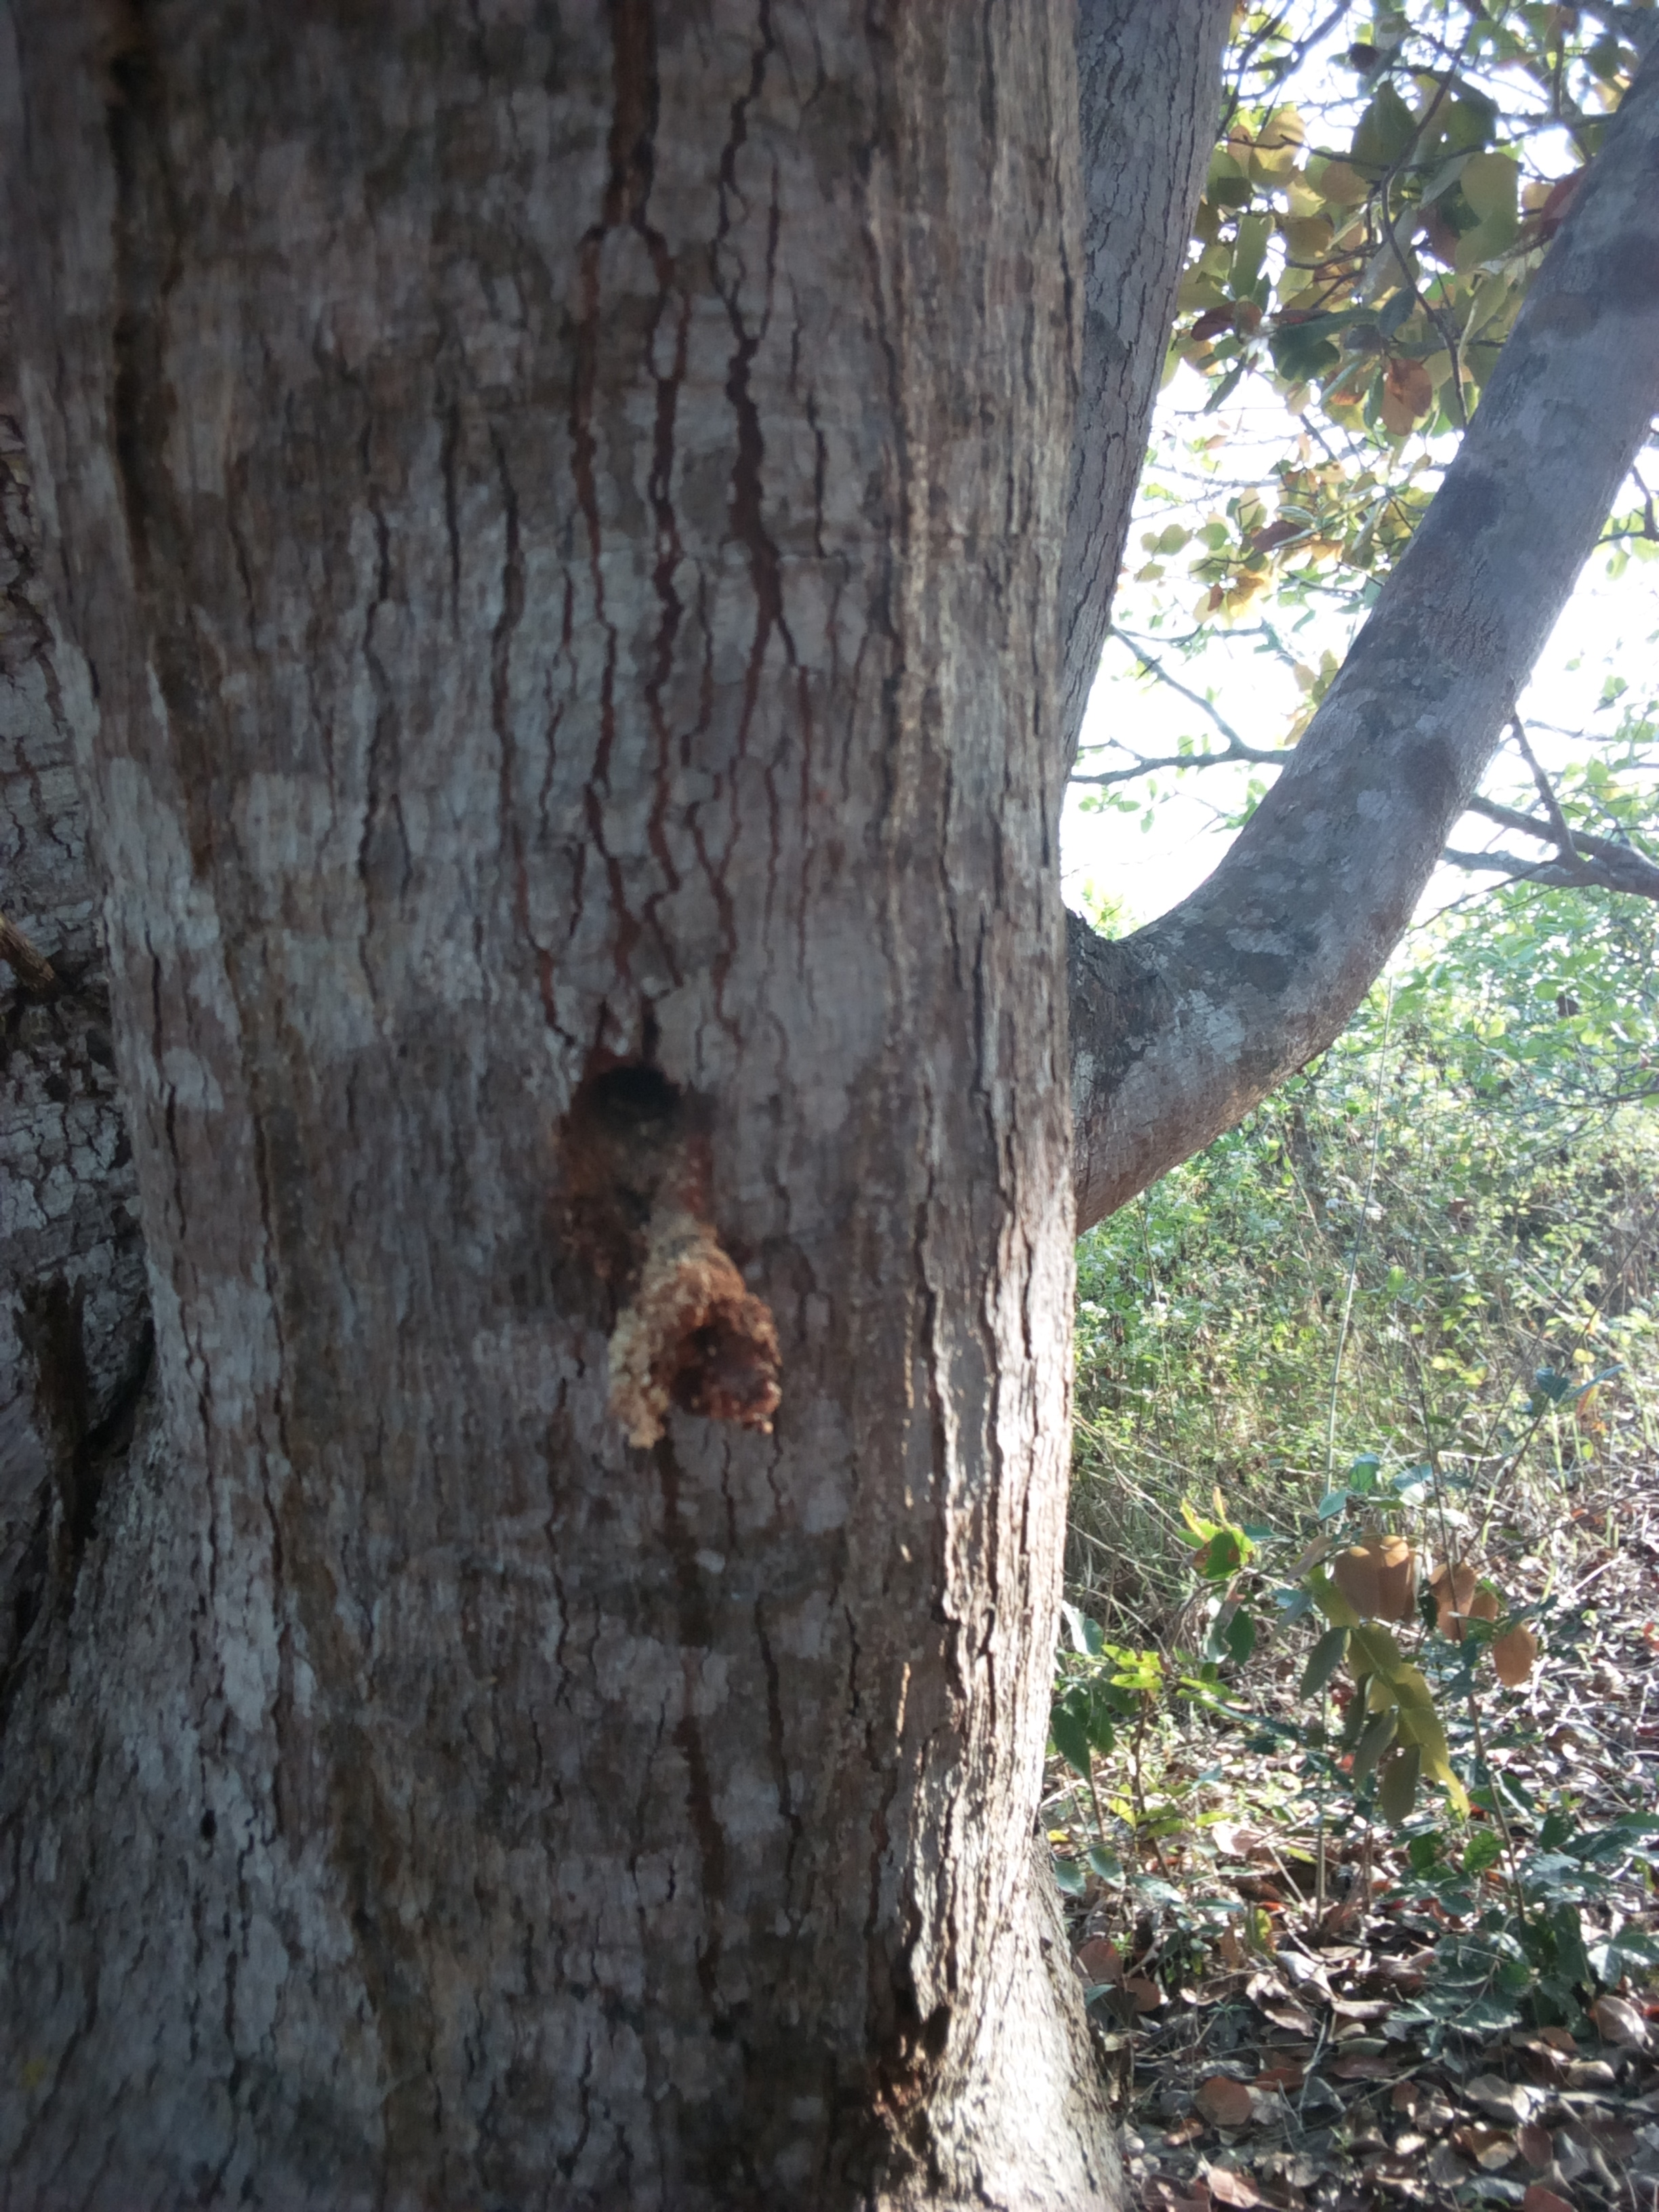Apate terebrans: (457, 1012, 829, 1313)
